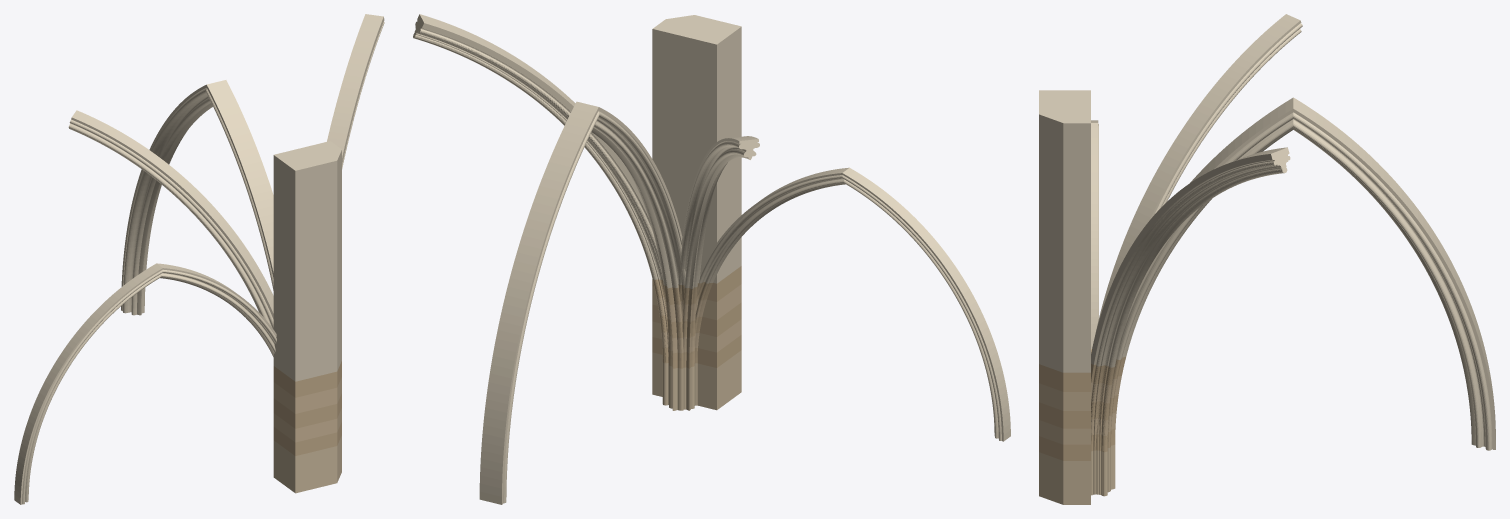
Rendered from springer_variant.glb.
3 renders of one model, left to right at view 1: azimuth 30°, elevation 25°; view 2: azimuth 150°, elevation 25°; view 3: azimuth 270°, elevation 25°, orthographic. The views are drawn at different scales.
Parts seen in each view (by area): view 1: receiver, member_0, member_3, member_1, member_2, derived_respond, course_04, course_05, course_03, course_02, course_01; view 2: member_0, receiver, member_3, member_2, member_1, derived_respond, course_04, course_05, course_03, course_01, course_02; view 3: member_0, receiver, member_2, member_1, derived_respond, member_3, course_05, course_04, course_03, course_01, course_02.
Part boxes in pixels (x1,y1,x2,y2): receiver: (273, 141, 341, 381); member_0: (121, 80, 273, 315); member_3: (14, 263, 276, 504); member_1: (68, 110, 273, 329); member_2: (327, 14, 384, 168); derived_respond: (273, 435, 341, 493); course_04: (273, 377, 341, 413); course_05: (273, 361, 341, 397); course_03: (273, 393, 341, 428); course_02: (273, 408, 341, 442); course_01: (273, 422, 341, 455); member_0: (479, 101, 685, 504); receiver: (652, 15, 741, 283); member_3: (699, 167, 1010, 441); member_2: (413, 14, 662, 279); member_1: (678, 136, 759, 289); derived_respond: (652, 350, 741, 410); course_04: (652, 284, 741, 322); course_05: (652, 266, 741, 305); course_03: (652, 302, 741, 338); course_01: (652, 335, 741, 368); course_02: (652, 319, 741, 353); member_0: (1116, 97, 1495, 450); receiver: (1039, 90, 1090, 372); member_2: (1091, 147, 1290, 367); member_1: (1095, 14, 1302, 335); derived_respond: (1039, 444, 1115, 504); member_3: (1091, 120, 1098, 348); course_05: (1039, 349, 1125, 391); course_04: (1039, 375, 1121, 410); course_03: (1039, 395, 1118, 428); course_01: (1039, 428, 1115, 460); course_02: (1039, 412, 1116, 444).
Size of the model in its own units: 3750 by 2900 by 2820.
